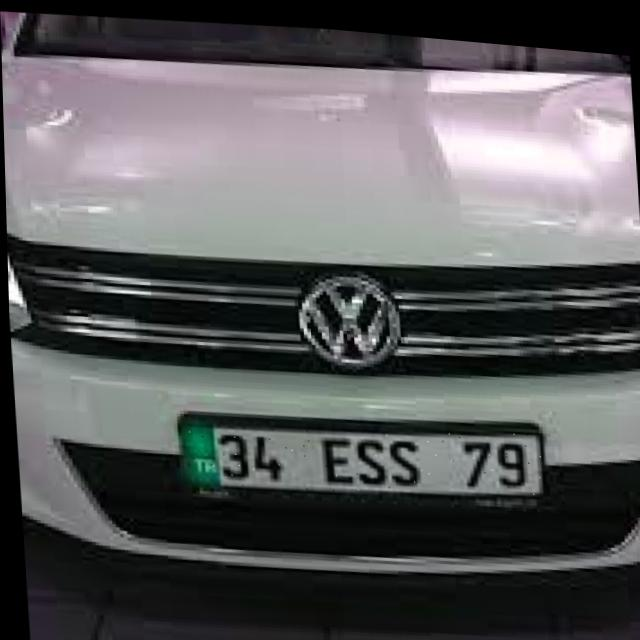license_plate: (176, 399, 546, 507)
